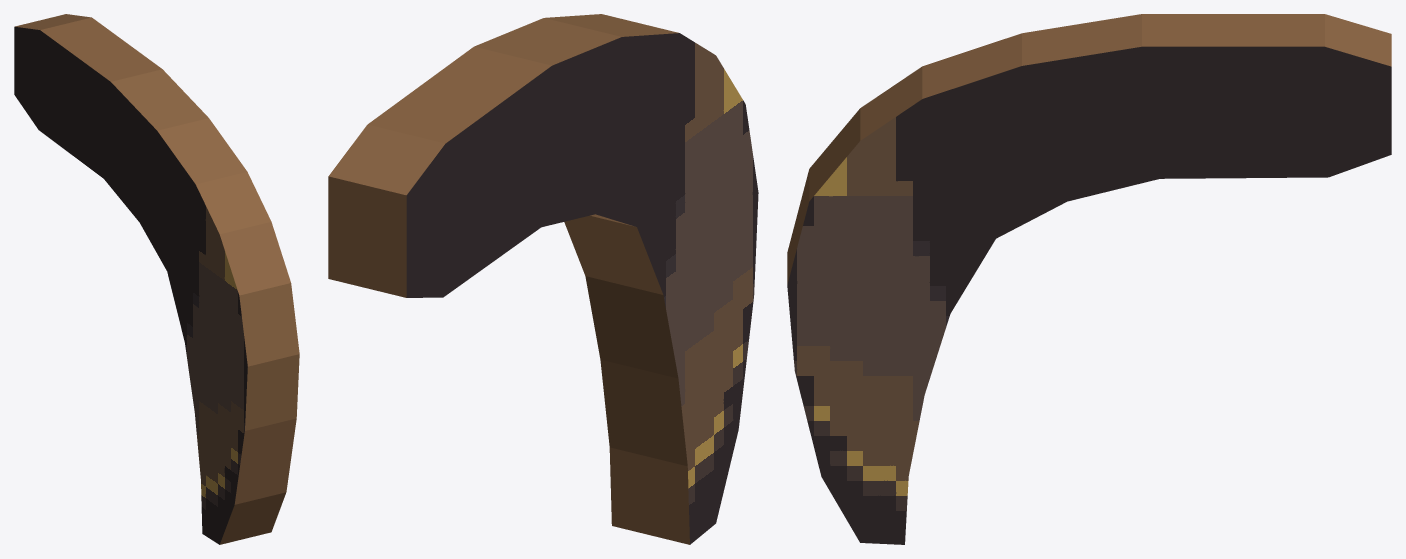
The model's file is hoe_head.obj.
3 renders of one model, left to right at view 1: azimuth 30°, elevation 25°; view 2: azimuth 150°, elevation 25°; view 3: azimuth 270°, elevation 25°, orthographic. The views are drawn at different scales.
Visible parts, largest first — view 1: geometry; view 2: geometry; view 3: geometry.
Part boxes in pixels (<box>): geometry: <box>14,14,299,544</box>; geometry: <box>328,14,758,544</box>; geometry: <box>787,14,1391,544</box>.
Bounding box in the file's own units: 0.0638 × 0.4525 × 0.4975.
